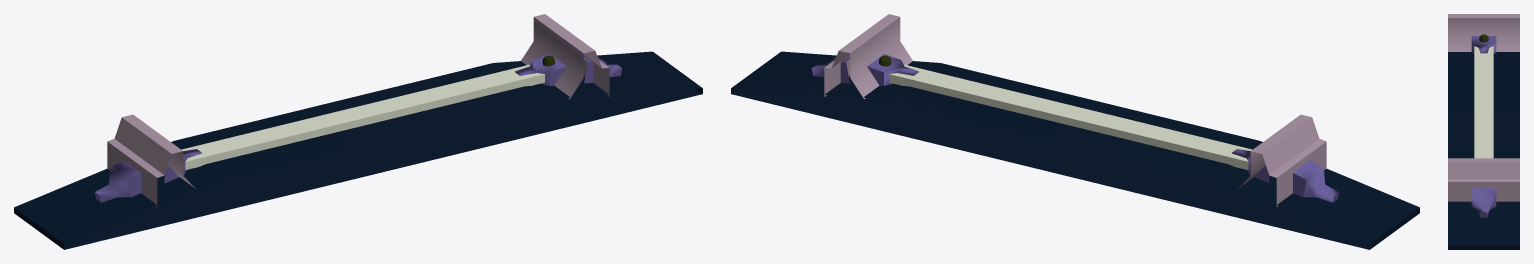
Rendered from traintracksingle.glb.
The picture shows the model from 3 angles, left to right: view 1: azimuth 30°, elevation 25°; view 2: azimuth 150°, elevation 25°; view 3: azimuth 270°, elevation 25°; orthographic projection. The views are drawn at different scales.
Parts seen in each view (by area): view 1: Cube; view 2: Cube; view 3: Cube.
Part boxes in pixels (x1,y1,x2,y2): Cube: (14, 14, 702, 249); Cube: (731, 14, 1419, 249); Cube: (1448, 14, 1519, 249).
Bounding box in the file's own units: 4 × 0.4174 × 0.5438.
Materials: 1 (1 with a texture image).
